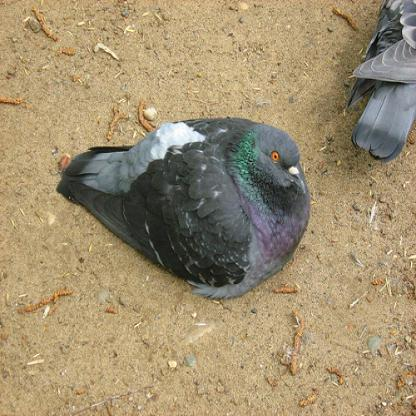bird: (55, 114, 310, 302), (345, 0, 415, 164)
